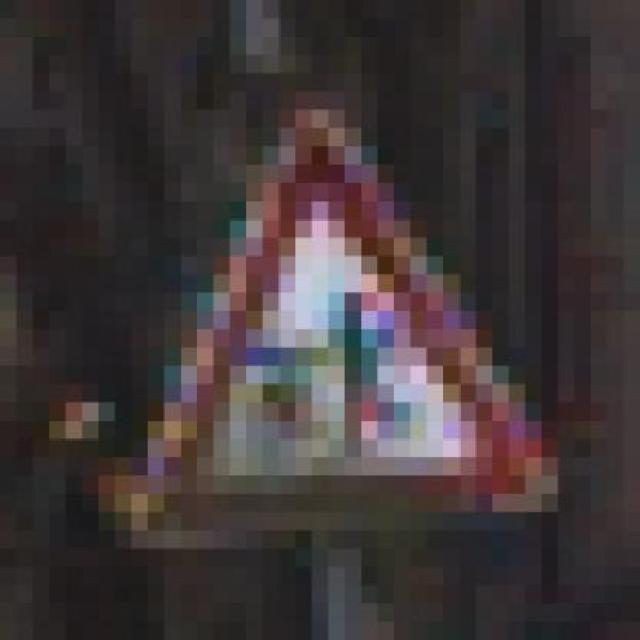Beware of children: (98, 110, 574, 567)
